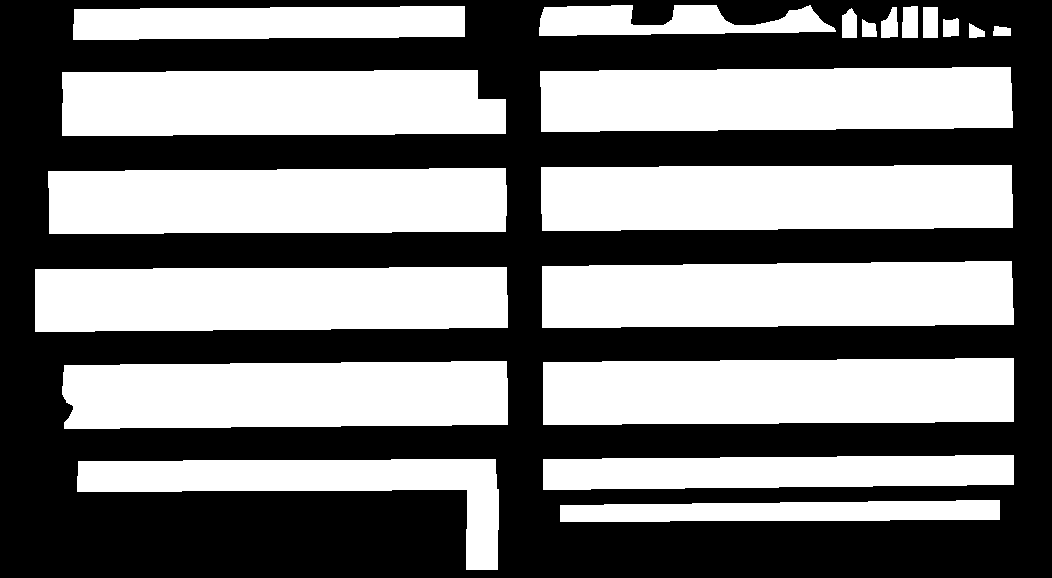parkingspot: (542, 261, 1012, 298), (543, 358, 1013, 395), (35, 295, 507, 331), (541, 95, 1012, 131), (541, 194, 1012, 230), (541, 165, 1011, 201), (543, 388, 1013, 424), (62, 361, 507, 399), (540, 67, 1011, 102), (542, 292, 1013, 327), (64, 391, 507, 428), (48, 168, 506, 203), (35, 267, 506, 301), (543, 455, 1013, 489), (62, 99, 505, 135), (49, 199, 506, 233), (62, 70, 477, 104), (77, 459, 496, 491), (73, 6, 464, 39), (560, 500, 999, 521), (539, 5, 835, 35), (466, 489, 498, 569), (881, 7, 897, 37), (902, 6, 917, 37), (923, 7, 937, 37), (842, 8, 856, 37), (943, 18, 958, 36), (862, 19, 876, 36), (969, 23, 984, 37), (993, 26, 1010, 35)
